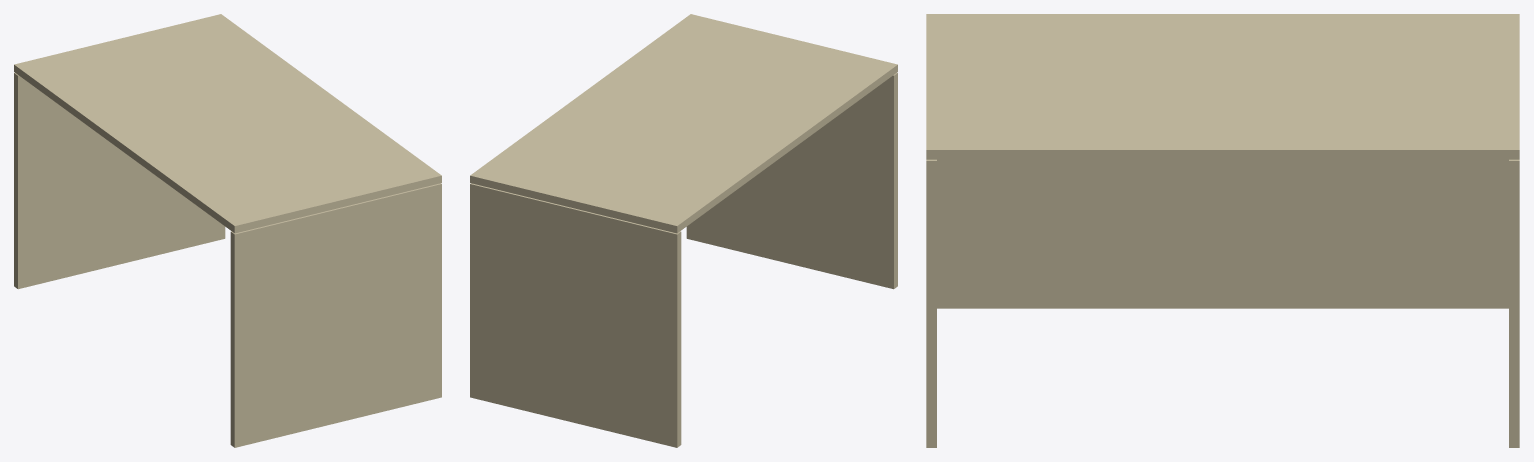
Rendered from lab_table.dae.
3 renders of one model, left to right at view 1: azimuth 30°, elevation 25°; view 2: azimuth 150°, elevation 25°; view 3: azimuth 270°, elevation 25°, orthographic. The views are drawn at different scales.
Visible parts, largest first — view 1: Top, Lateral_right, Lateral_left; view 2: Top, Lateral_left, Lateral_right; view 3: Top, Back, Lateral_right, Lateral_left.
Boxes of the visible parts, x1,y1,x2,y2 form: Top: (14, 14, 441, 233); Lateral_right: (230, 183, 441, 447); Lateral_left: (14, 72, 225, 289); Top: (470, 14, 897, 233); Lateral_left: (470, 183, 681, 447); Lateral_right: (686, 72, 897, 289); Top: (926, 14, 1519, 159); Back: (937, 159, 1508, 308); Lateral_right: (926, 159, 936, 447); Lateral_left: (1509, 159, 1519, 447).
Size of the model in its own units: 0.65 by 1.2 by 0.665.
